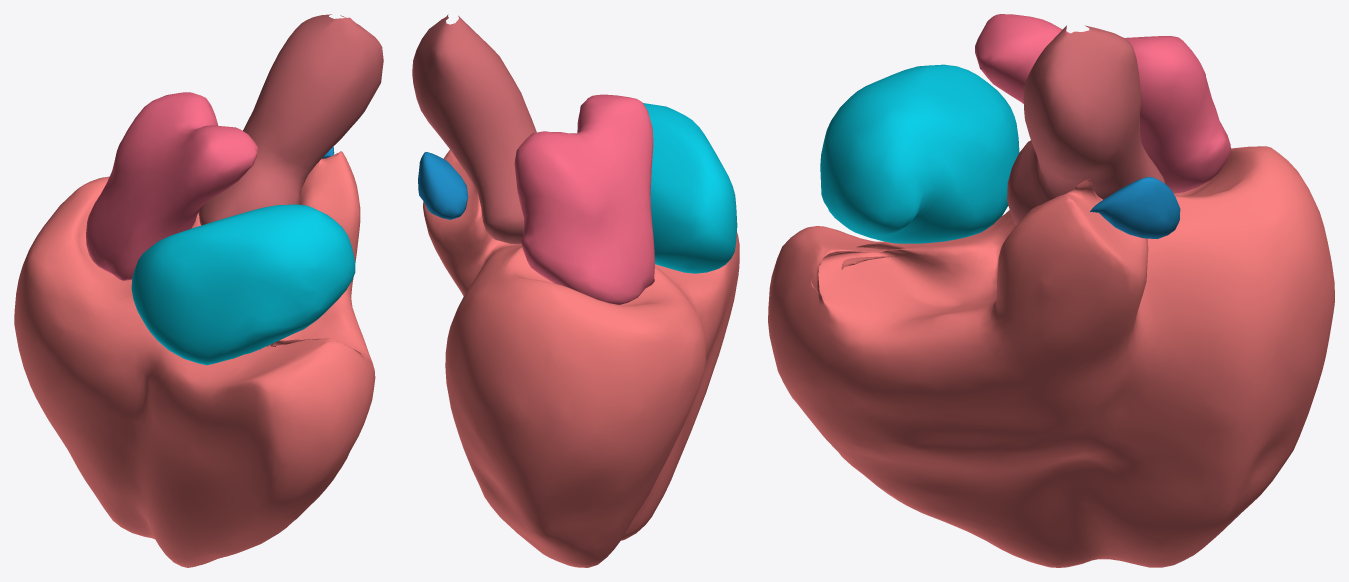
The model's file is frame_48.glb.
The picture shows the model from 3 angles, left to right: view 1: azimuth 30°, elevation 25°; view 2: azimuth 150°, elevation 25°; view 3: azimuth 270°, elevation 25°; orthographic projection. The views are drawn at different scales.
Visible parts, largest first — view 1: Renderer Node; view 2: Renderer Node; view 3: Renderer Node.
Part boxes in pixels (x1,y1,x2,y2): Renderer Node: (14, 14, 383, 567); Renderer Node: (412, 14, 739, 567); Renderer Node: (768, 14, 1334, 567).
Size of the model in its own units: 102 by 158 by 127.
